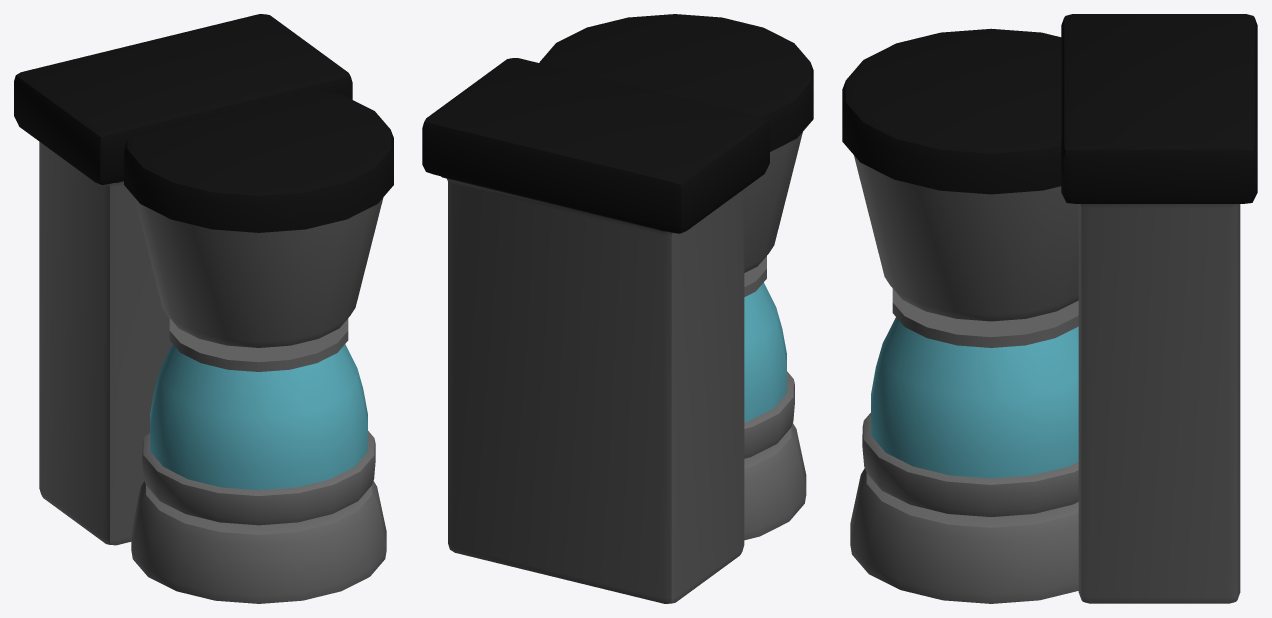
The model's file is SM_coffe_machine.fbx.
3 renders of one model, left to right at view 1: azimuth 30°, elevation 25°; view 2: azimuth 150°, elevation 25°; view 3: azimuth 270°, elevation 25°, orthographic. The views are drawn at different scales.
Parts seen in each view (by area): view 1: Box374; view 2: Box374; view 3: Box374.
Boxes of the visible parts, x1,y1,x2,y2 form: Box374: (14,14,393,603); Box374: (422,14,813,603); Box374: (842,14,1257,603).
Size of the model in its own units: 20.91 by 33.06 by 26.56.
